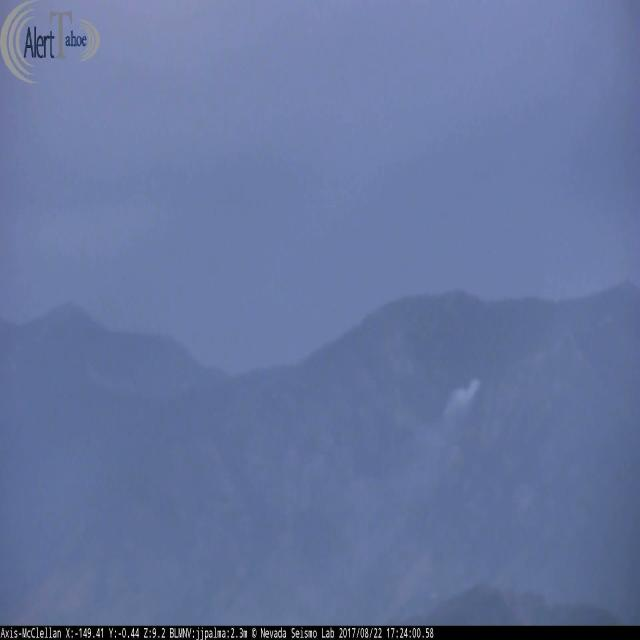smoke: (443, 373, 484, 423)
